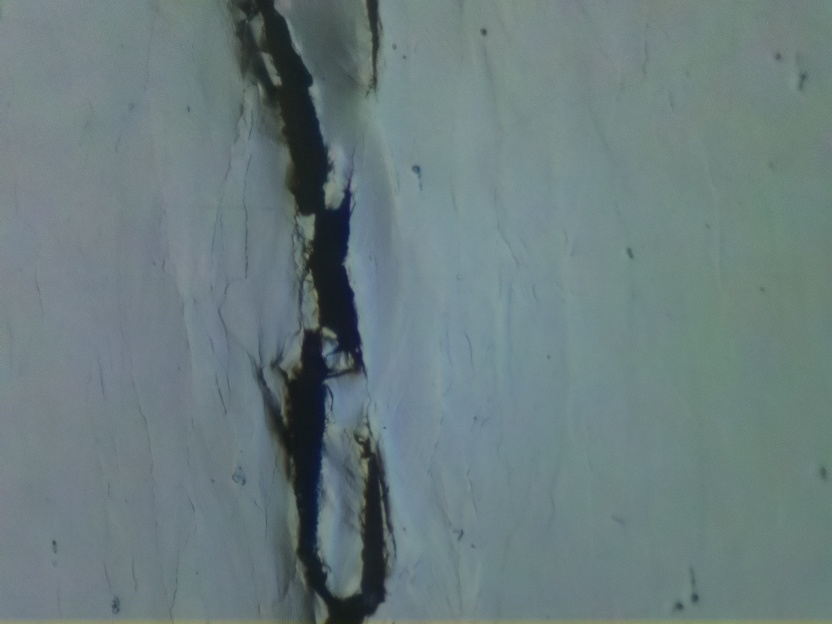crack: (232, 0, 385, 623), (363, 0, 384, 98)
